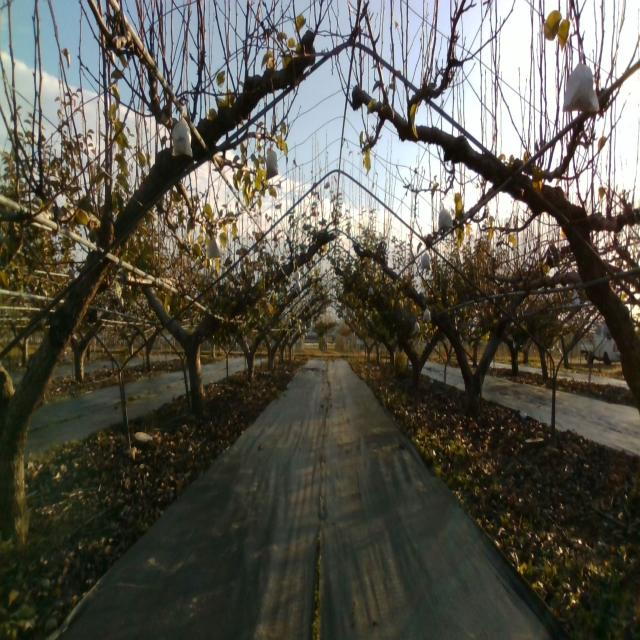pearbags: (562, 51, 600, 113), (170, 105, 193, 159), (207, 230, 226, 260), (264, 145, 280, 180), (438, 201, 454, 230)
